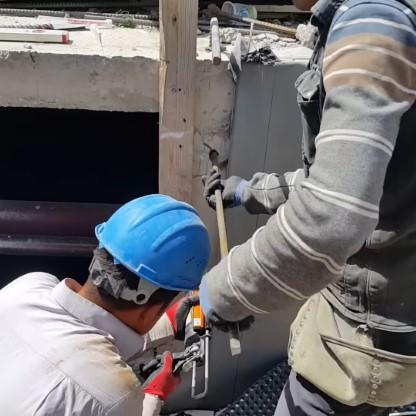helmet: (57, 177, 209, 339)
